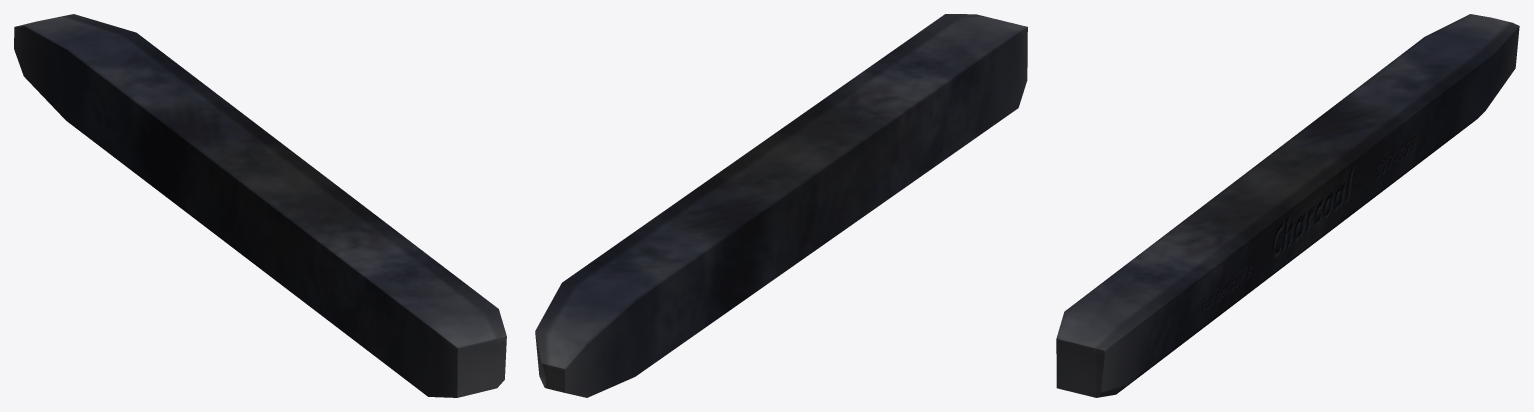
File: Charcoal.fbx
3 views of the same model, side by side, from view 1: azimuth 30°, elevation 25°; view 2: azimuth 150°, elevation 25°; view 3: azimuth 330°, elevation 25° (orthographic). The views are drawn at different scales.
Visible parts, largest first — view 1: Charcoal; view 2: Charcoal; view 3: Charcoal.
Boxes of the visible parts, box(x1,y1,x2,y2) form: Charcoal: box(14, 14, 506, 397); Charcoal: box(535, 14, 1027, 397); Charcoal: box(1056, 14, 1519, 397).
Bounding box in the file's own units: 0.1199 × 0.1351 × 1.31.
